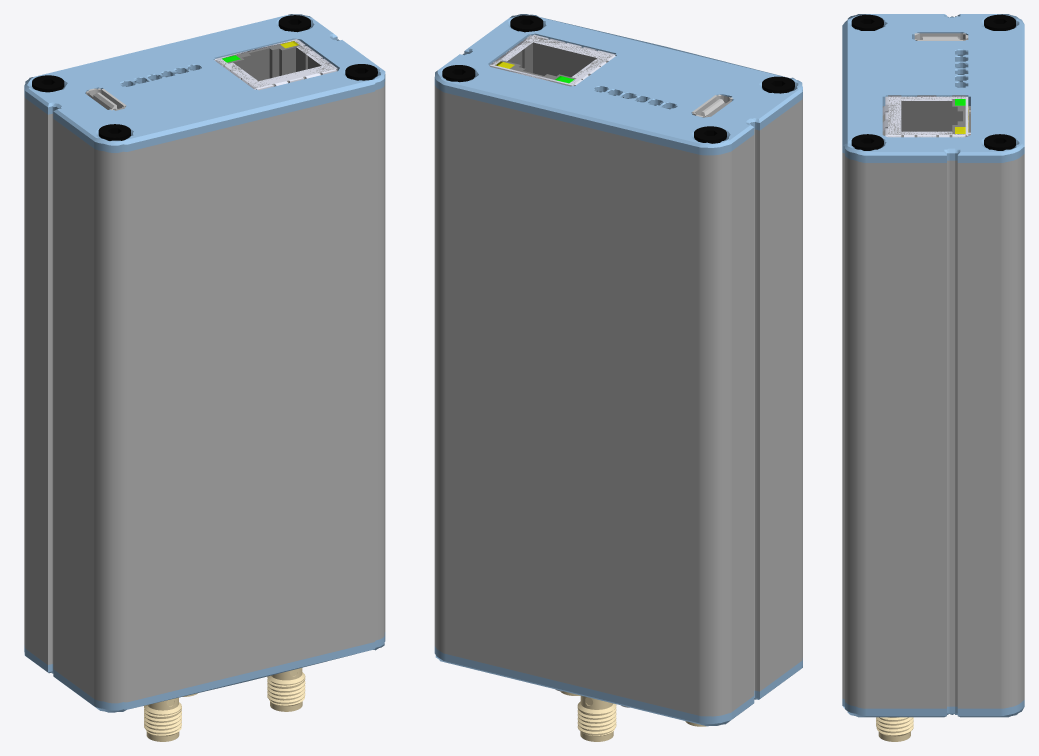
The model's file is POE-WLK-6G-screen-textured.glb.
3 renders of one model, left to right at view 1: azimuth 30°, elevation 25°; view 2: azimuth 150°, elevation 25°; view 3: azimuth 270°, elevation 25°, orthographic. The views are drawn at different scales.
Parts seen in each view (by area): view 1: object 9, object 16, Body1292, Body1291; view 2: object 9, object 16, Body1294; view 3: object 9, object 16, Body1291, Body1309, Body1306, Body1308, Body1307.
Boxes of the visible parts, <box> form: object 9: <box>24,81,385,703</box>; object 16: <box>24,14,385,712</box>; Body1292: <box>144,697,181,741</box>; Body1291: <box>267,668,305,711</box>; object 9: <box>434,85,802,716</box>; object 16: <box>434,14,802,726</box>; Body1294: <box>577,695,616,741</box>; object 9: <box>842,106,1024,708</box>; object 16: <box>842,14,1024,717</box>; Body1291: <box>876,717,913,741</box>; Body1309: <box>851,134,883,150</box>; Body1306: <box>984,14,1015,30</box>; Body1308: <box>851,14,883,30</box>; Body1307: <box>984,134,1015,150</box>.
Size of the model in its own units: 0.0552 by 0.1145 by 0.0303.
